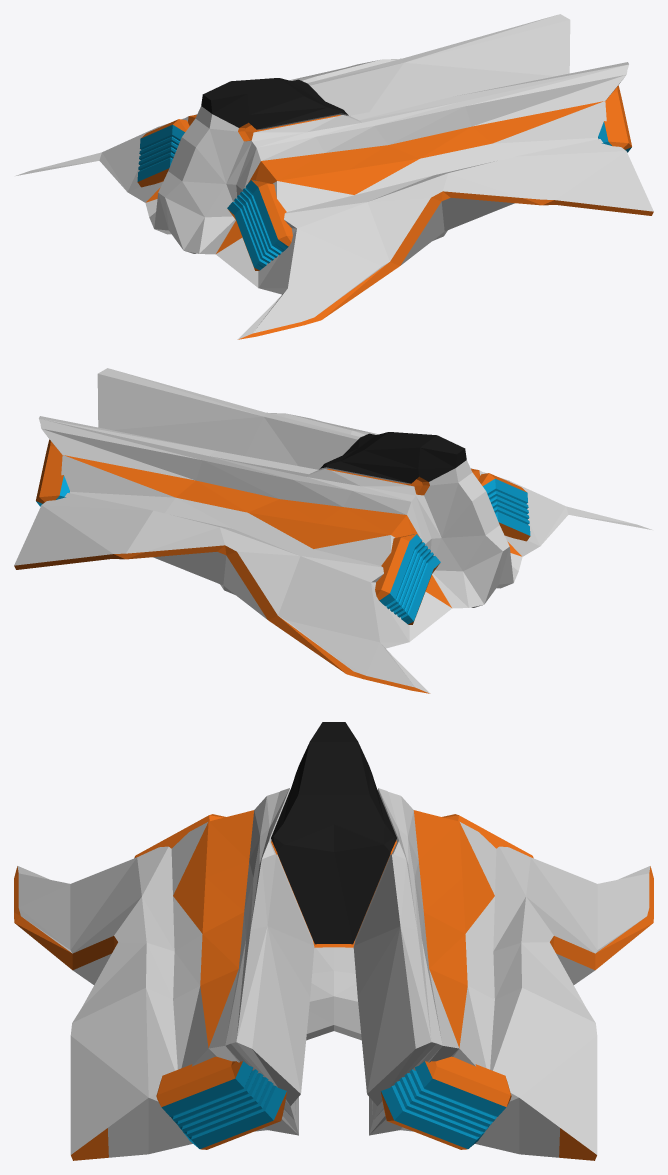
The model's file is Drone_4.fbx.
The picture shows the model from 3 angles, top to bottom: view 1: azimuth 30°, elevation 25°; view 2: azimuth 150°, elevation 25°; view 3: azimuth 270°, elevation 25°; orthographic projection. The views are drawn at different scales.
Parts seen in each view (by area): view 1: Drone; view 2: Drone; view 3: Drone.
Boxes of the visible parts, x1=… form: Drone: x1=16, y1=14, x2=653, y2=339; Drone: x1=14, y1=368, x2=651, y2=693; Drone: x1=14, y1=722, x2=653, y2=1160.
Bounding box in the file's own units: 6.18 × 1.97 × 5.1.
